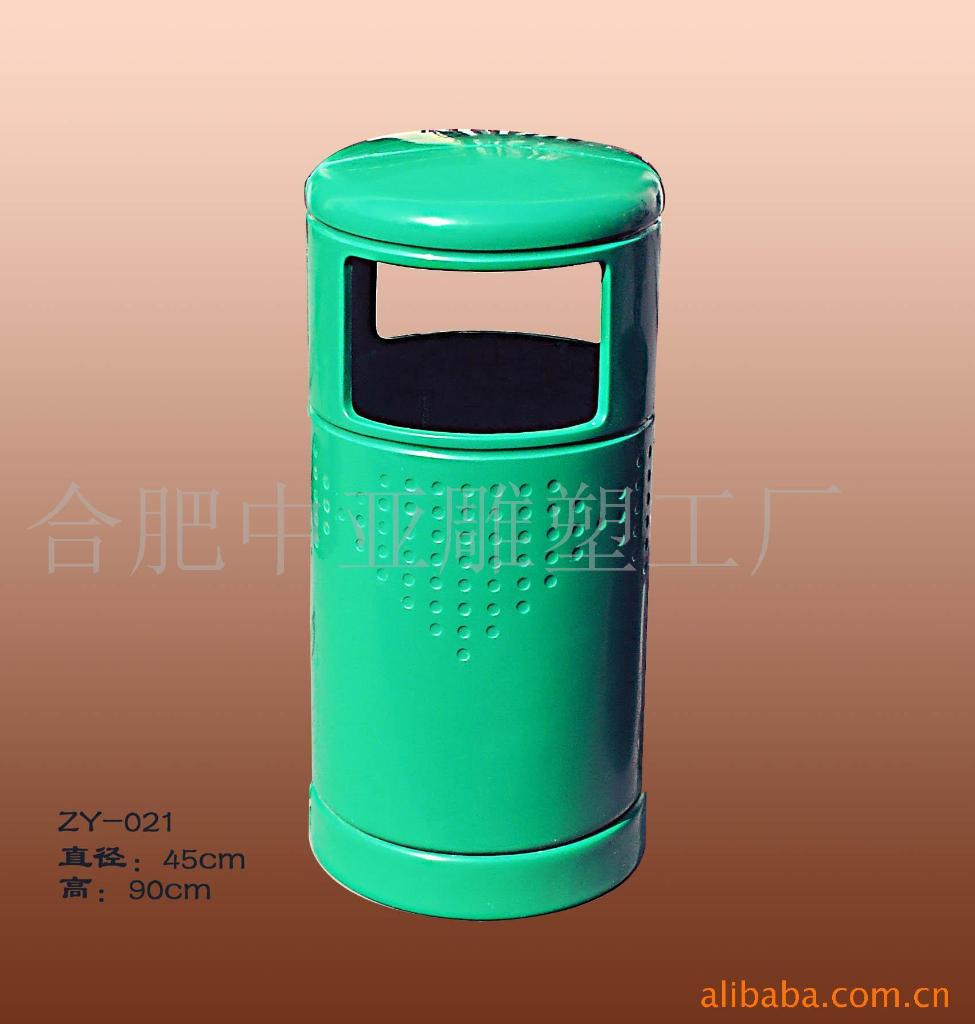dustbin: (282, 121, 675, 943)
